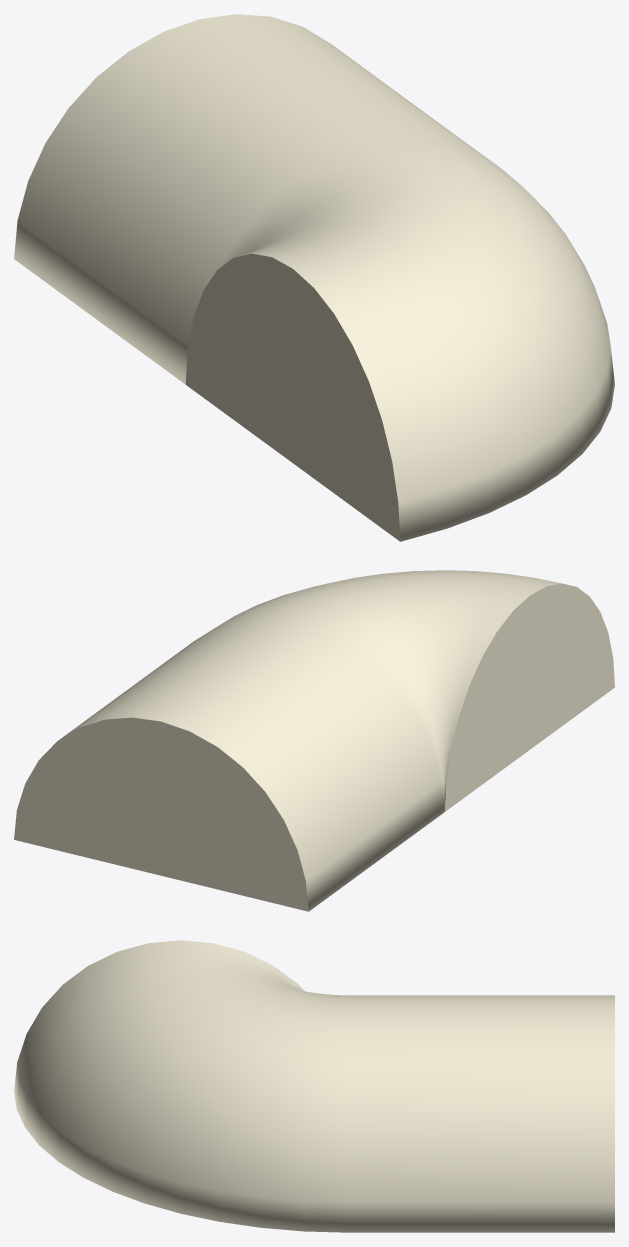
File: AFJ_Gate_Corner_Frame_Right.fbx
The picture shows the model from 3 angles, top to bottom: view 1: azimuth 30°, elevation 25°; view 2: azimuth 150°, elevation 25°; view 3: azimuth 270°, elevation 25°; orthographic projection. The views are drawn at different scales.
Visible parts, largest first — view 1: Gate_Corner_Frame_Right; view 2: Gate_Corner_Frame_Right; view 3: Gate_Corner_Frame_Right.
Part boxes in pixels (<box>): Gate_Corner_Frame_Right: <box>14,14,614,541</box>; Gate_Corner_Frame_Right: <box>14,570,614,911</box>; Gate_Corner_Frame_Right: <box>14,940,614,1232</box>.
Bounding box in the file's own units: 50 × 25 × 90.
